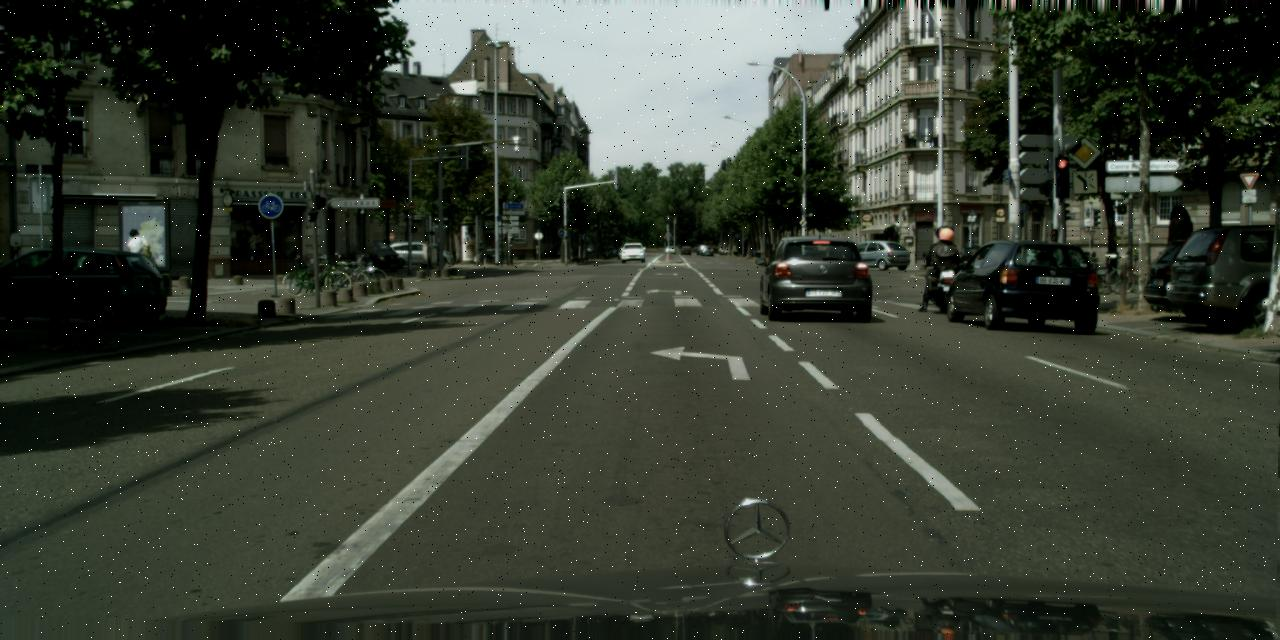ped: (924, 226, 960, 311), (930, 226, 959, 297)
